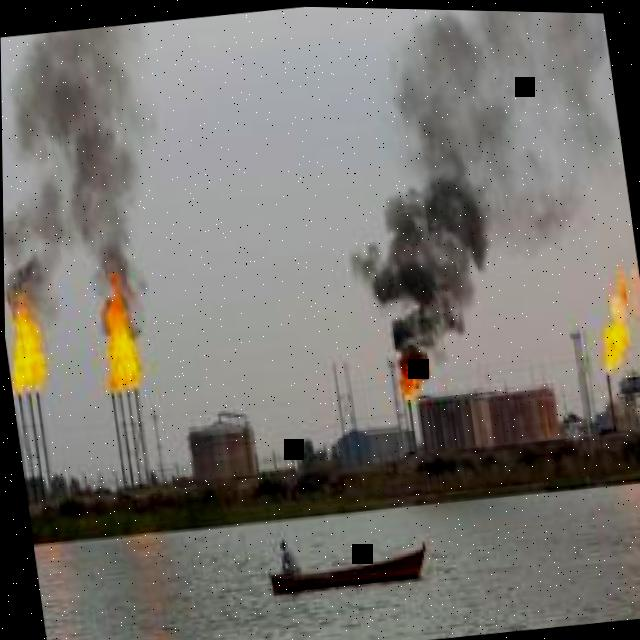fire: (100, 270, 139, 392), (601, 261, 640, 376), (9, 303, 42, 399), (392, 352, 421, 395)
smoke: (351, 7, 628, 362), (3, 22, 159, 340)
